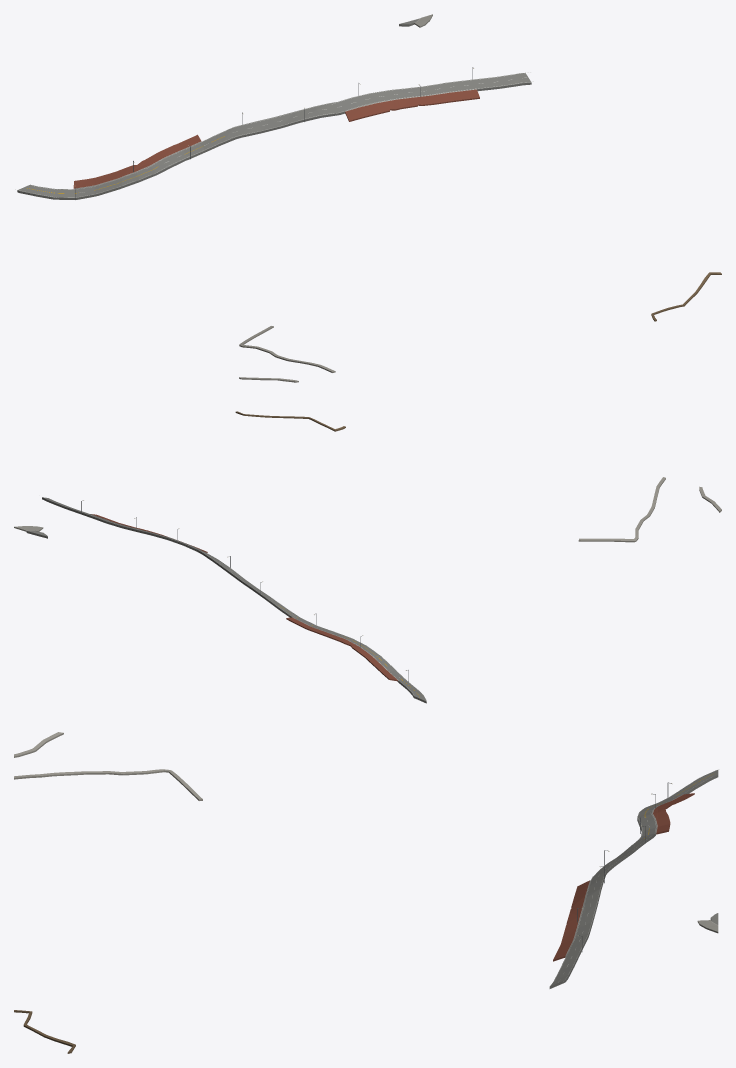
The picture shows the model from 3 angles, top to bottom: view 1: azimuth 30°, elevation 25°; view 2: azimuth 150°, elevation 25°; view 3: azimuth 270°, elevation 25°; orthographic projection. The views are drawn at different scales.
Bounding box in the file's own units: 297 × 52.21 × 293.
